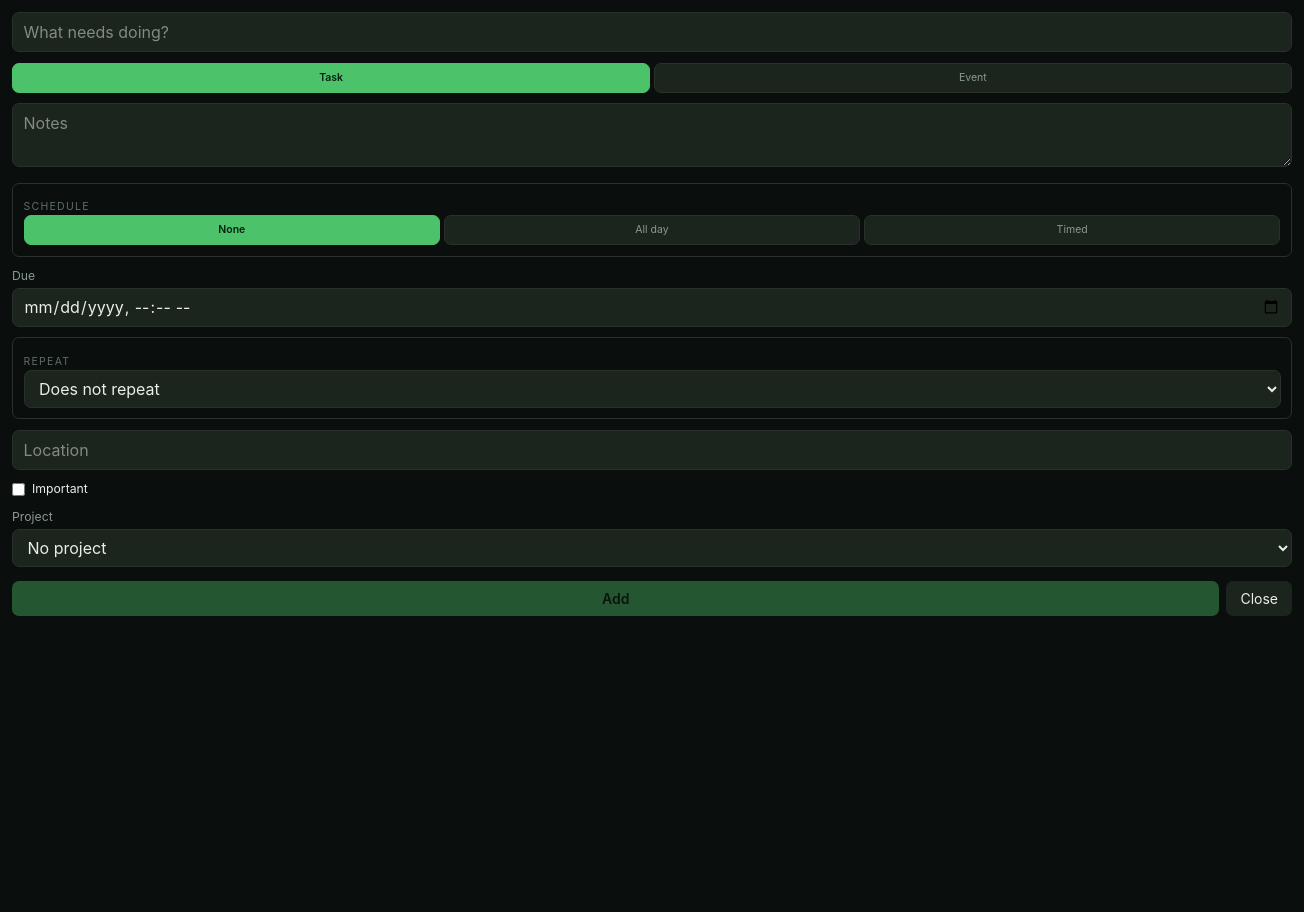
Test case: the rules that were already there › will not save a block that ends before it starts
The image size is (1304, 912).
Type "Standup" into the field with placeholder "What needs doing?". click: (652, 32)
box: left=12, top=12, right=1292, bottom=52
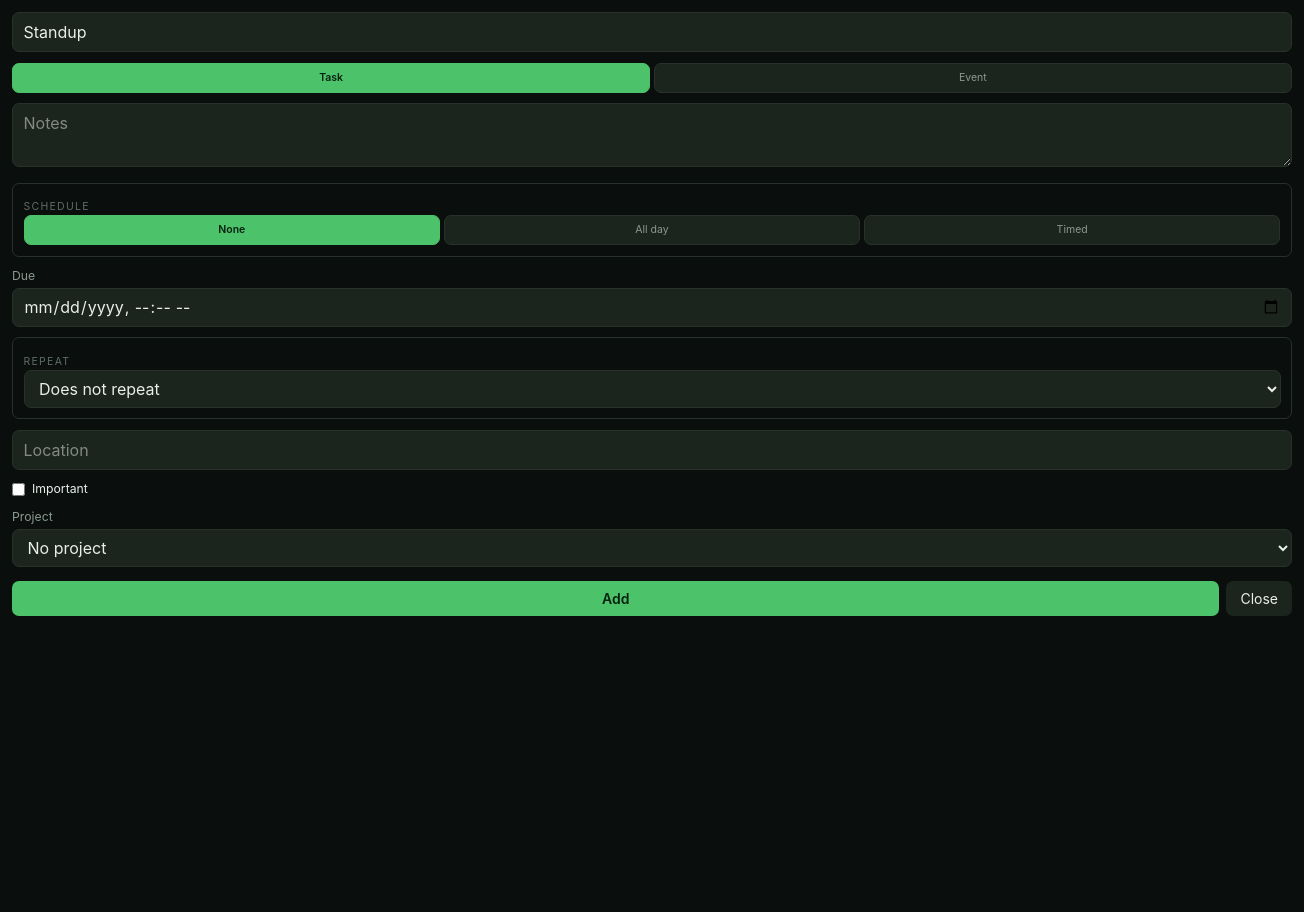
Click the button "Timed". click: (1072, 230)
box: left=864, top=215, right=1280, bottom=245
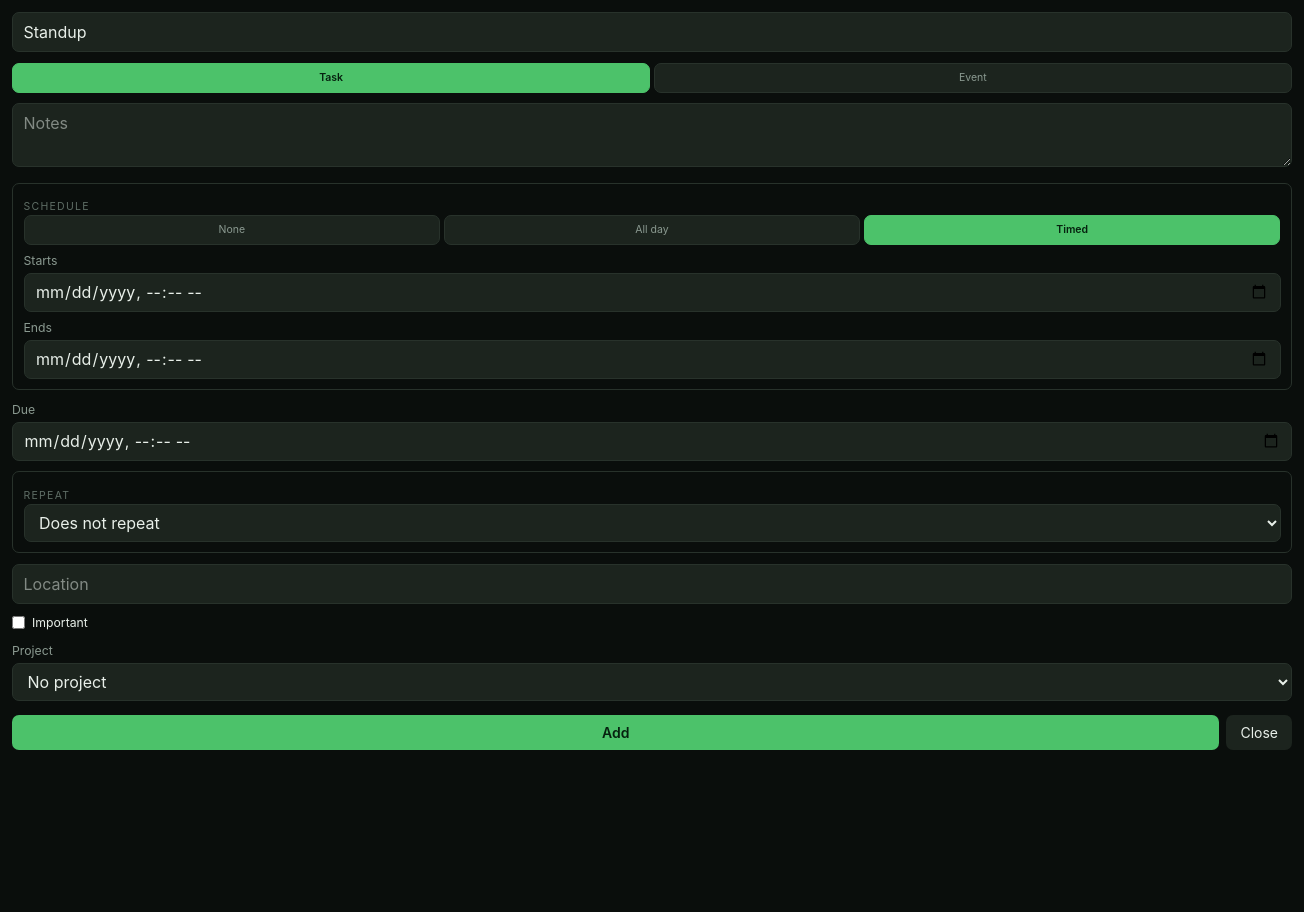
Type "2026-09-08T10:00" into the field labelled "Starts". click: (652, 292)
box: left=24, top=273, right=1280, bottom=312
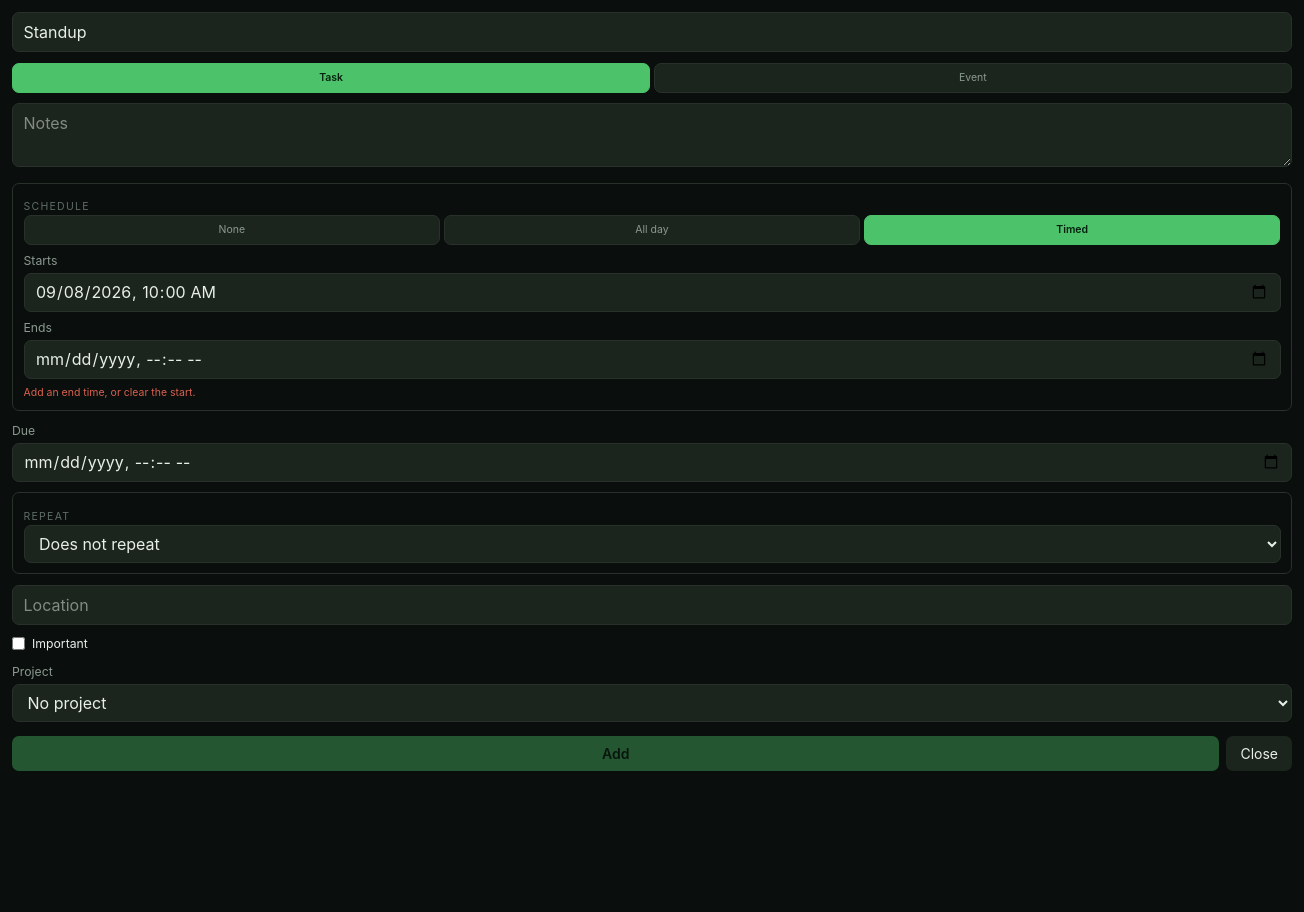
Type "2026-09-08T09:00" into the field labelled "Ends". click: (652, 359)
box: left=24, top=340, right=1280, bottom=379
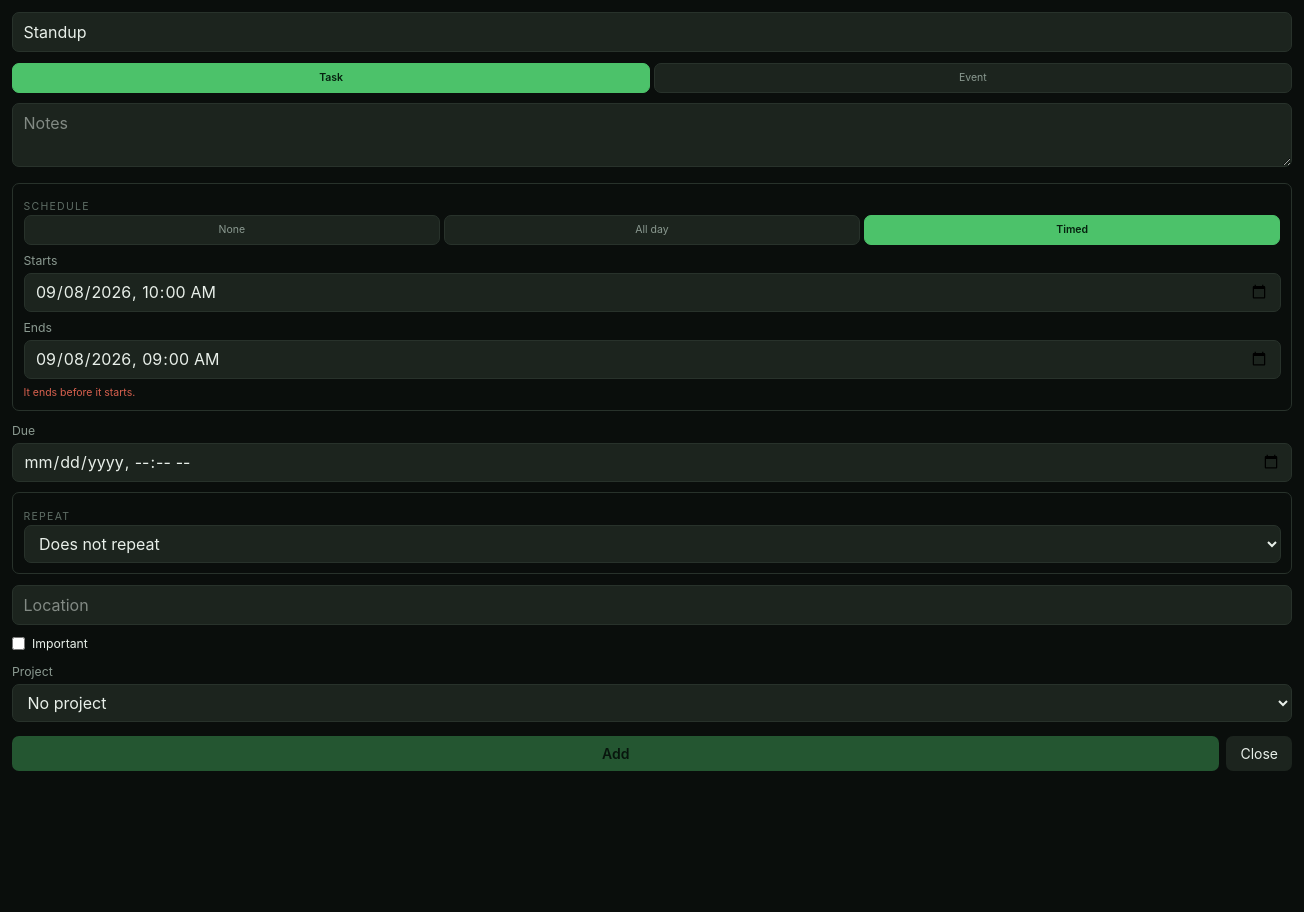
Expected: the button "Add" is disabled, left=12, top=736, right=1219, bottom=771
Expected: the text "It ends before it starts." is shown, left=24, top=386, right=135, bottom=399
